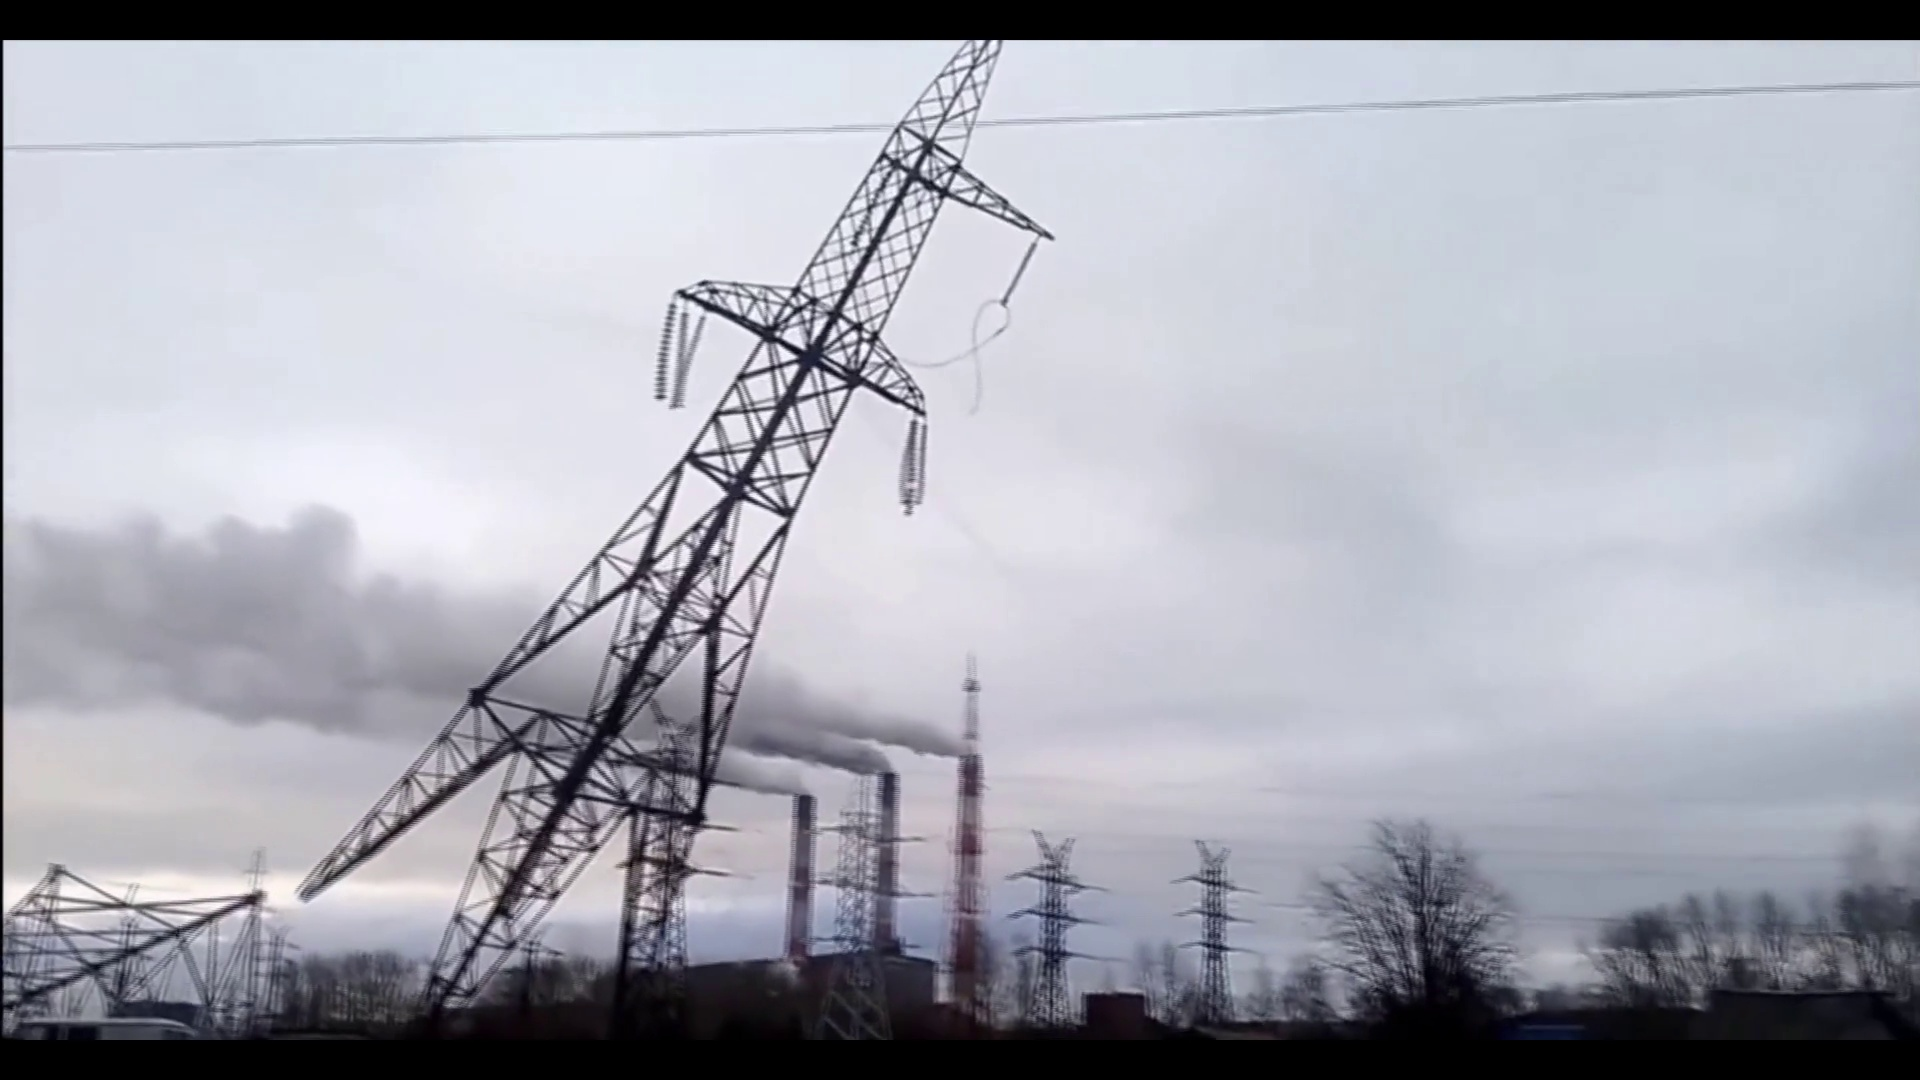tower_up: (297, 47, 1067, 1000)
